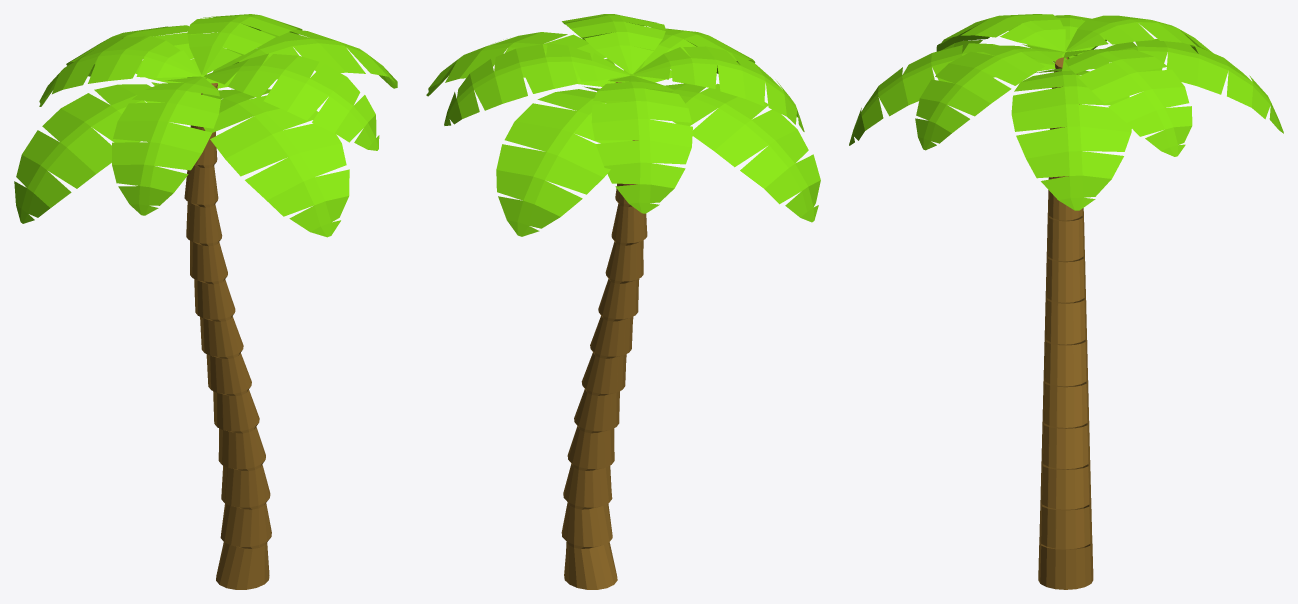
File: palma2.fbx
The picture shows the model from 3 angles, left to right: view 1: azimuth 30°, elevation 25°; view 2: azimuth 150°, elevation 25°; view 3: azimuth 270°, elevation 25°; orthographic projection.
Parts seen in each view (by area): view 1: palma2; view 2: palma2; view 3: palma2.
Part boxes in pixels (left/top/right/bottom): palma2: left=14, top=14, right=397, bottom=589; palma2: left=426, top=14, right=820, bottom=589; palma2: left=849, top=14, right=1283, bottom=589.
Size of the model in its own units: 1.57 by 2.12 by 1.57.
